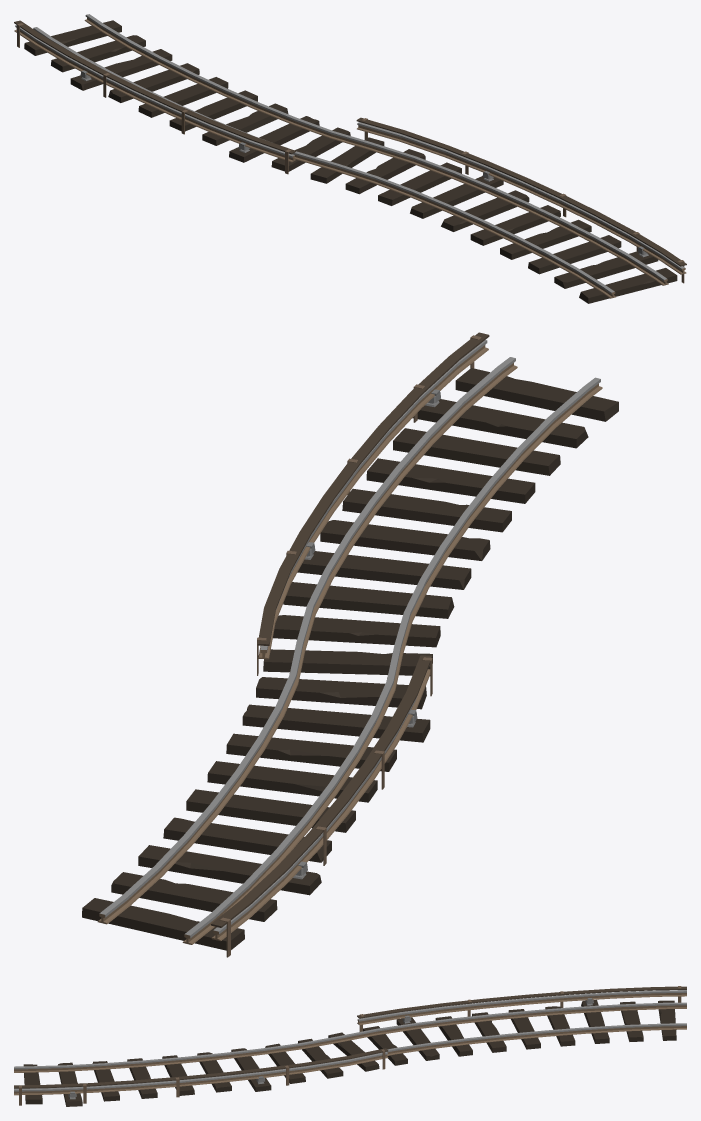
Rendered from SW_ENV_Track_SingleJog_20m_Right-Left.fbx.
3 renders of one model, top to bottom at view 1: azimuth 30°, elevation 25°; view 2: azimuth 150°, elevation 25°; view 3: azimuth 270°, elevation 25°, orthographic. The views are drawn at different scales.
Visible parts, largest first — view 1: SW_ENV_Track_SingleJog_20m_Right-Left; view 2: SW_ENV_Track_SingleJog_20m_Right-Left; view 3: SW_ENV_Track_SingleJog_20m_Right-Left.
Boxes of the visible parts, x1,y1,x2,y2 form: SW_ENV_Track_SingleJog_20m_Right-Left: [14, 14, 686, 303]; SW_ENV_Track_SingleJog_20m_Right-Left: [82, 332, 618, 957]; SW_ENV_Track_SingleJog_20m_Right-Left: [14, 986, 686, 1106].
Size of the model in its own units: 725 by 58.74 by 2000.
